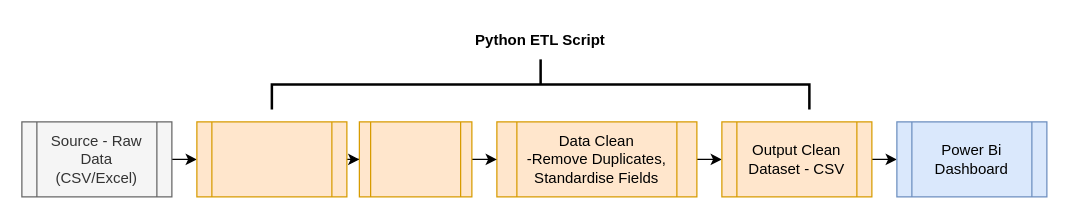
The diagram is 1069 pixels wide and 219 high, and some of its shapes have lost their labels. The shapes that lost their labels are listed below. From the top down, each one's centre as x and y in pixels, then its label:
At (x=271, y=159): "Data Validation (Missing Values, duplicates, formats)".
At (x=415, y=159): "Log Errors".
